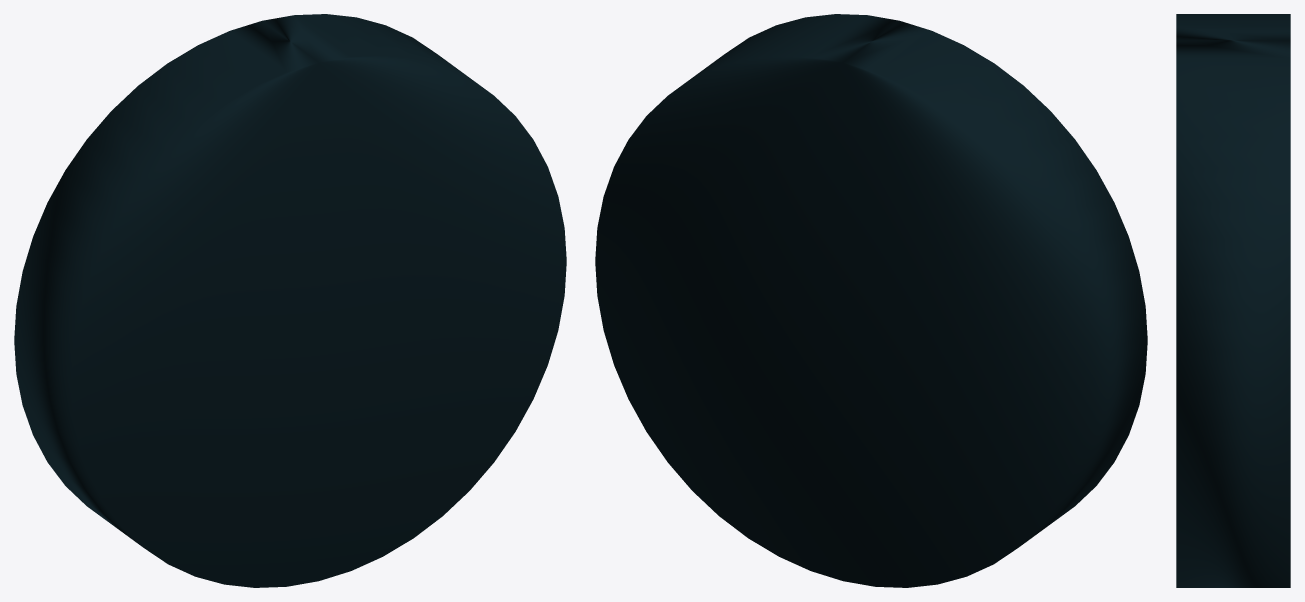
File: lidar_lens.obj
The picture shows the model from 3 angles, left to right: view 1: azimuth 30°, elevation 25°; view 2: azimuth 150°, elevation 25°; view 3: azimuth 270°, elevation 25°; orthographic projection.
Parts seen in each view (by area): view 1: lidar_lens; view 2: lidar_lens; view 3: lidar_lens.
Part boxes in pixels (box(x1,y1,x2,y2)): lidar_lens: box(14, 14, 566, 587); lidar_lens: box(595, 14, 1147, 587); lidar_lens: box(1176, 14, 1290, 587).
Size of the model in its own units: 0.0251 by 0.0251 by 0.005.
